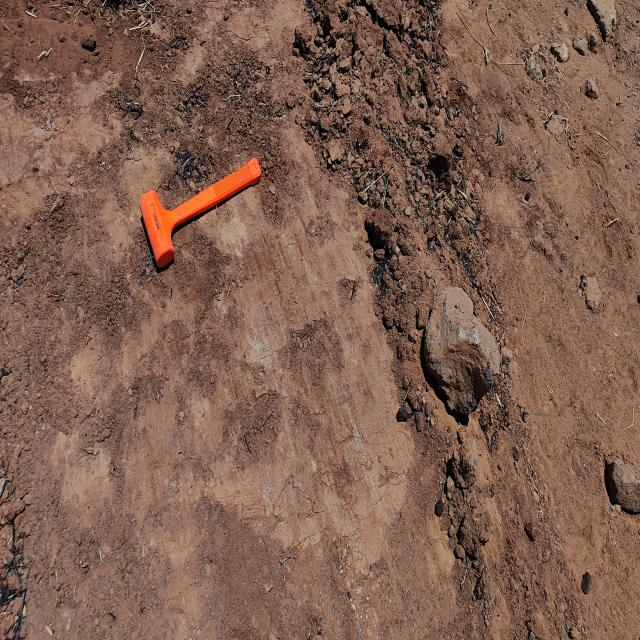Orange_hammer: (139, 155, 261, 270)
